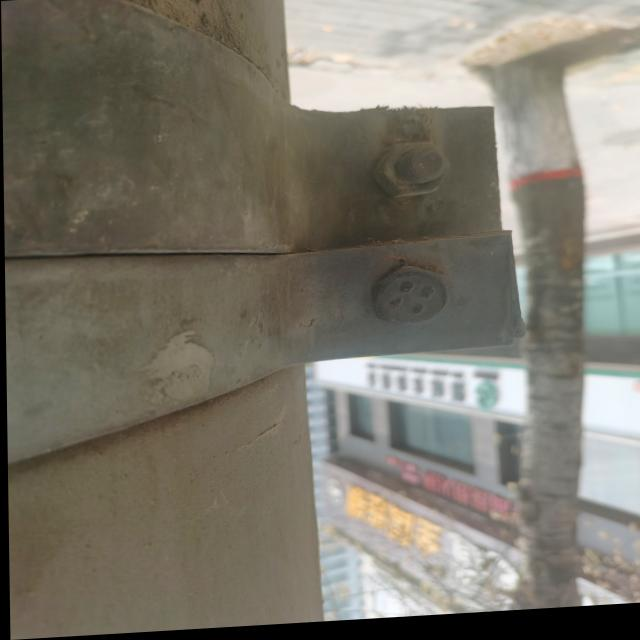Regular bolt: (369, 269, 451, 335), (370, 147, 449, 205)
